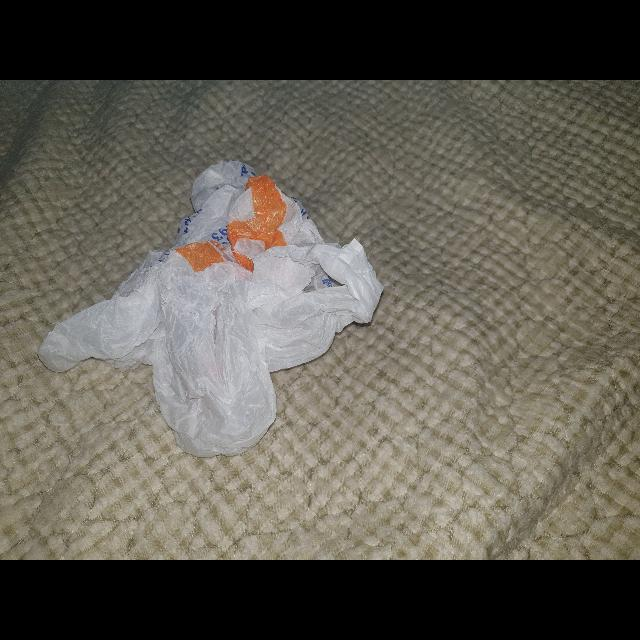plastic_bag: (29, 153, 392, 474)
